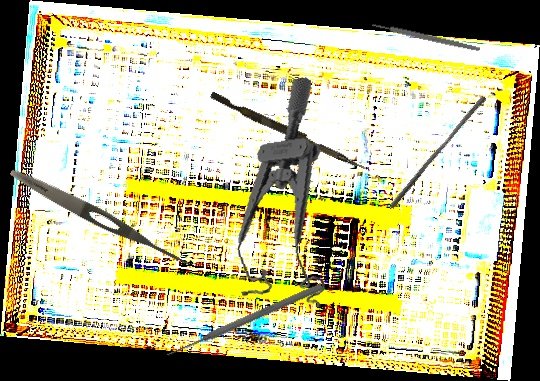Dressing Forceps: (6, 164, 196, 272)
Pusher: (208, 91, 370, 172), (165, 281, 324, 360), (389, 92, 487, 213)
Scalpel Handle: (371, 21, 481, 53)
Speculum: (213, 76, 342, 318)
